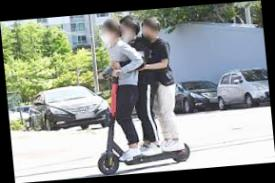multiple: (83, 11, 191, 176)
